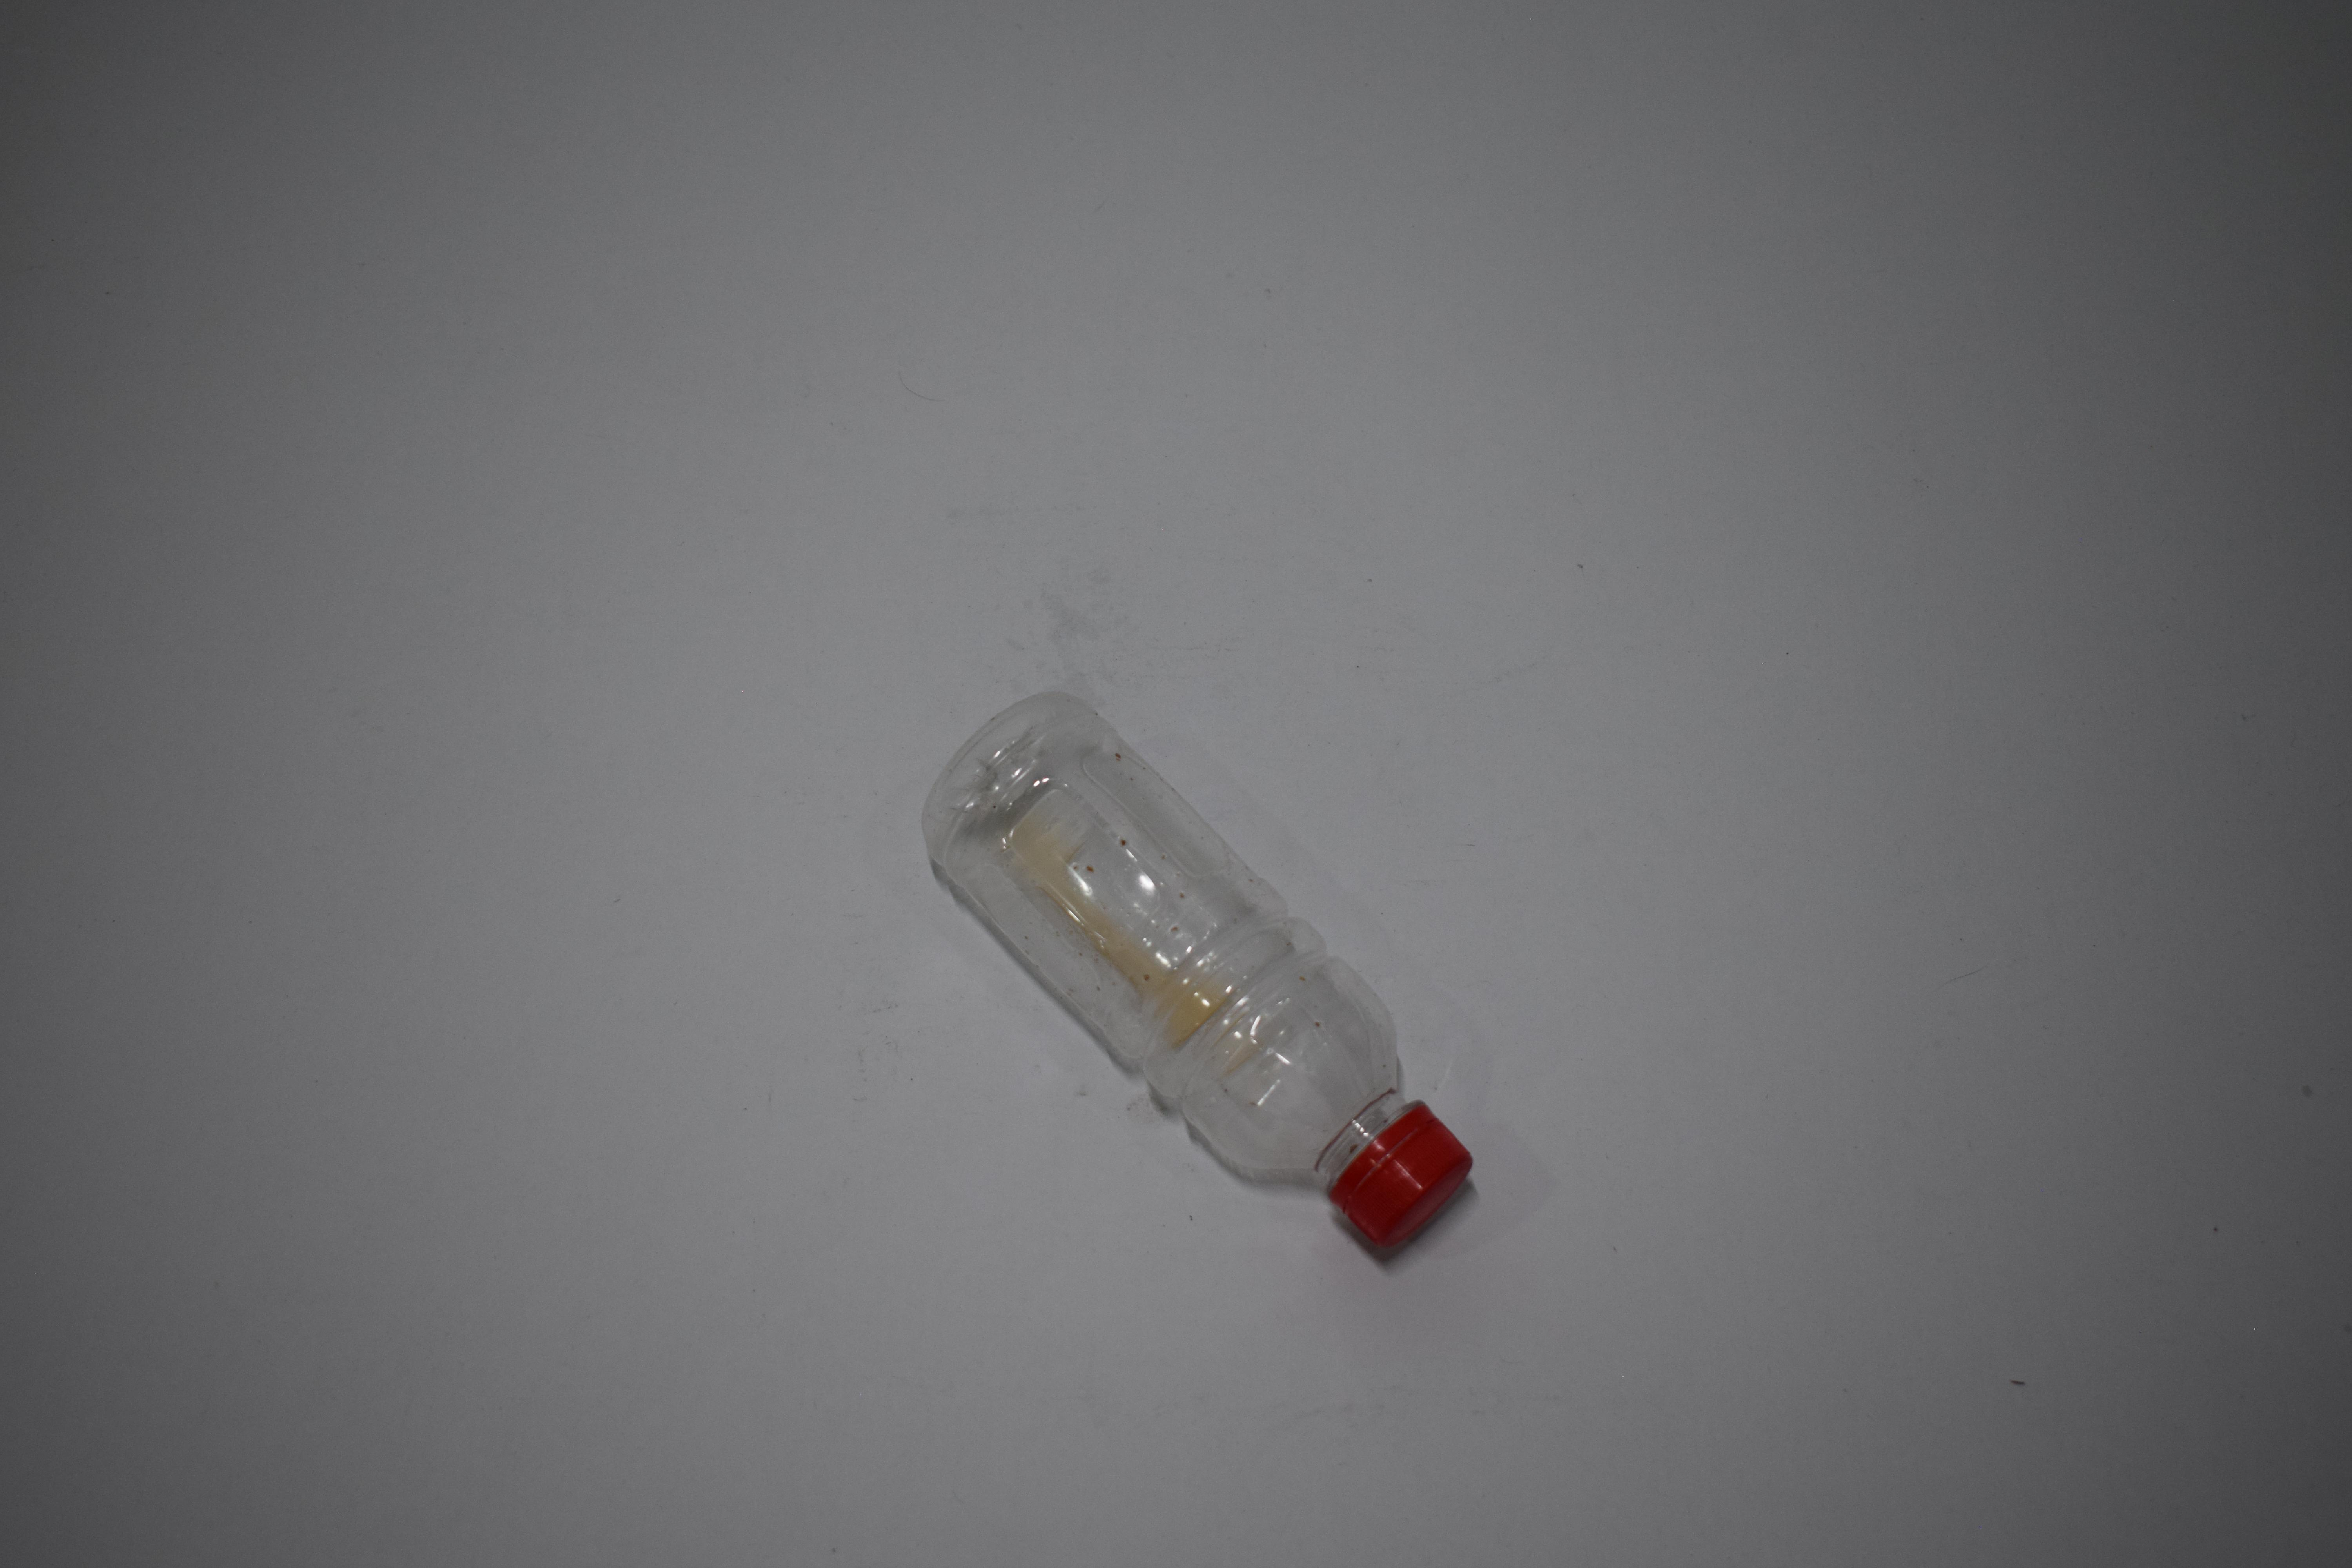bottle: (0, 686, 306, 1269)
